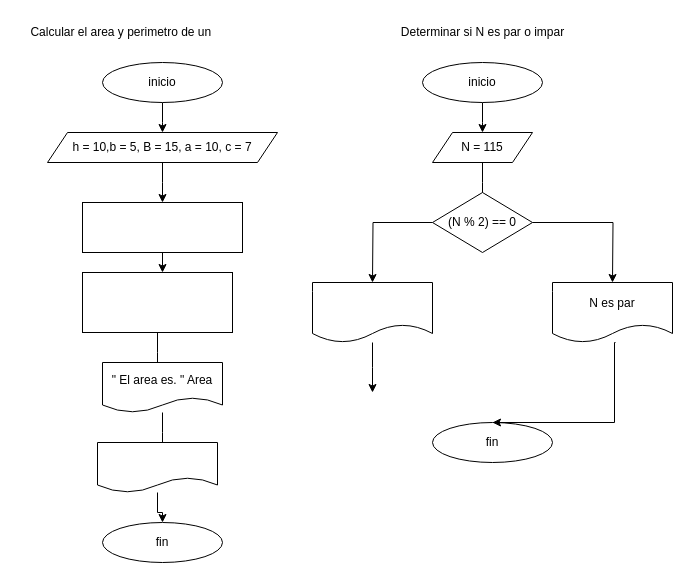
Some shapes in this 690 by 580 pixel diagram are drawn without their labels. The centre of each missing label's shape, as x and y in pixels:
"El perimetro es: "+ Perimetro: [157,467]
Area = (( b + B ) / 2 )* h Perimetro = a + b + B +c: [157,302]
Area = 0, Perimetro = 0: [162,227]
N es impar: [372,312]
